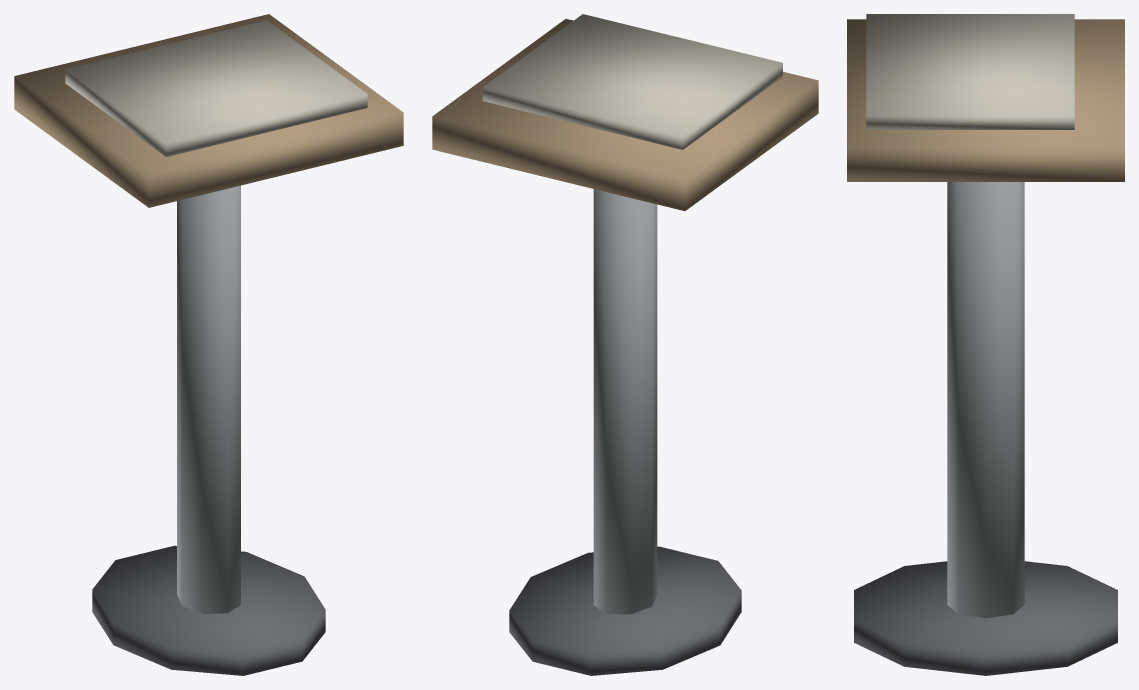
File: memorial_guestbook_stand__deep.glb
The picture shows the model from 3 angles, left to right: view 1: azimuth 30°, elevation 25°; view 2: azimuth 150°, elevation 25°; view 3: azimuth 270°, elevation 25°; orthographic projection. The views are drawn at different scales.
Visible parts, largest first — view 1: world; view 2: world; view 3: world.
Boxes of the visible parts, bbox=[...] form: world: bbox=[14, 14, 403, 675]; world: bbox=[432, 14, 818, 675]; world: bbox=[847, 14, 1124, 675].
Bounding box in the file's own units: 0.48 × 0.9825 × 0.4392.
